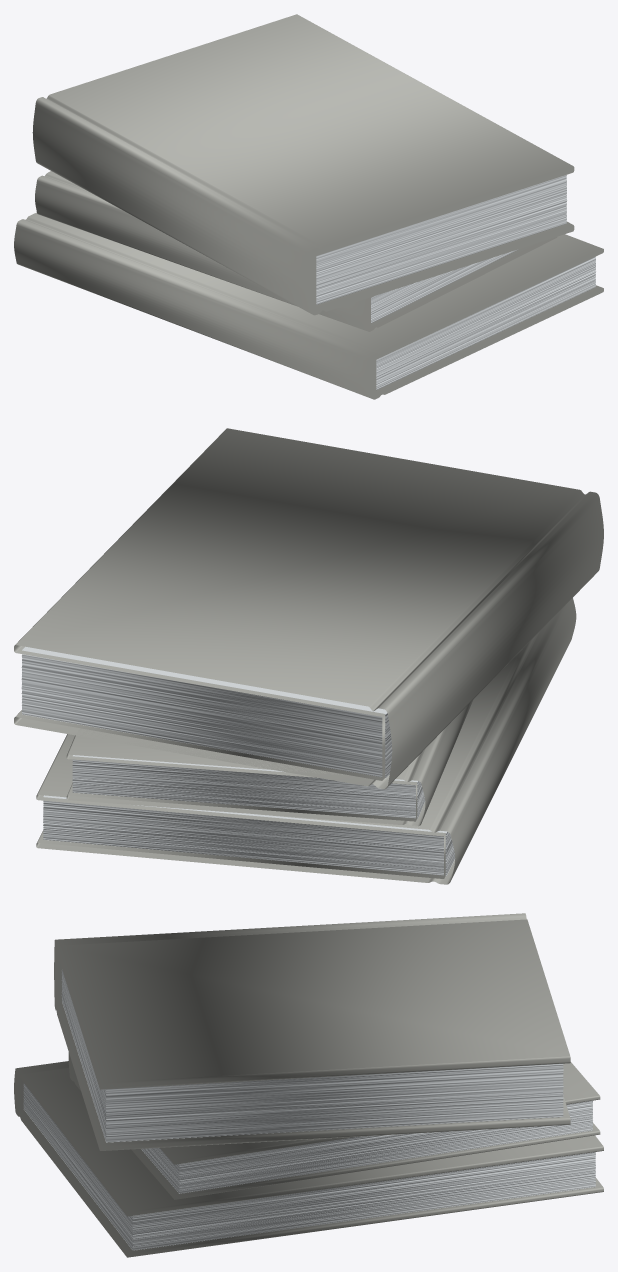
File: libros.obj
The picture shows the model from 3 angles, top to bottom: view 1: azimuth 30°, elevation 25°; view 2: azimuth 150°, elevation 25°; view 3: azimuth 270°, elevation 25°; orthographic projection. The views are drawn at different scales.
Parts seen in each view (by area): view 1: libros:Book04; view 2: libros:Book04; view 3: libros:Book04.
Part boxes in pixels (left/top/right/bottom): libros:Book04: left=14, top=14, right=603, bottom=399; libros:Book04: left=14, top=428, right=603, bottom=884; libros:Book04: left=14, top=913, right=603, bottom=1257.
Bounding box in the file's own units: 0.4081 × 0.1368 × 0.4781.
